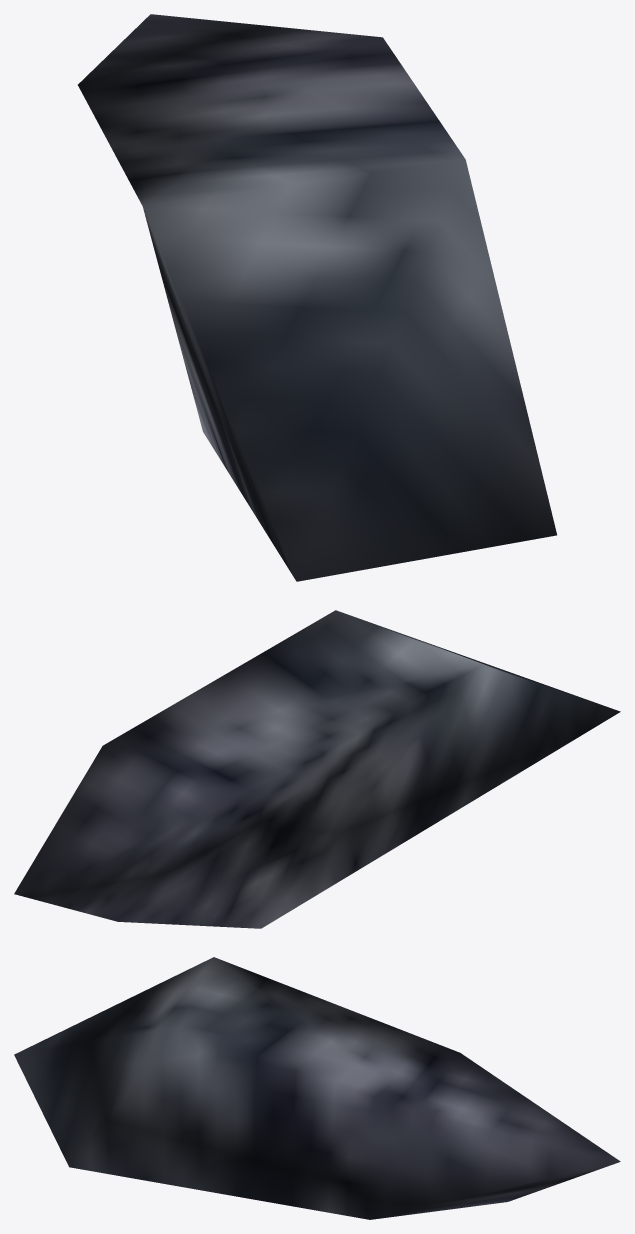
File: nar_condra_7_stone_3.glb
3 views of the same model, one above another, from view 1: azimuth 30°, elevation 25°; view 2: azimuth 150°, elevation 25°; view 3: azimuth 270°, elevation 25° (orthographic). The views are drawn at different scales.
Parts seen in each view (by area): view 1: model_nar_condra_7_stone_3; view 2: model_nar_condra_7_stone_3; view 3: model_nar_condra_7_stone_3.
Part boxes in pixels (x1,y1,x2,y2): model_nar_condra_7_stone_3: (78, 14, 556, 581); model_nar_condra_7_stone_3: (14, 610, 620, 928); model_nar_condra_7_stone_3: (14, 957, 620, 1219).
Bounding box in the file's own units: 0.1434 × 0.1092 × 0.3.
Materials: 1 (1 with a texture image).
